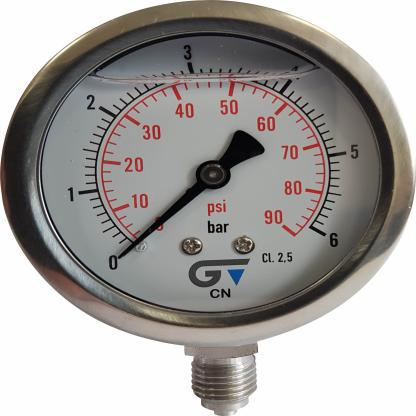needle: (115, 180, 207, 261)
